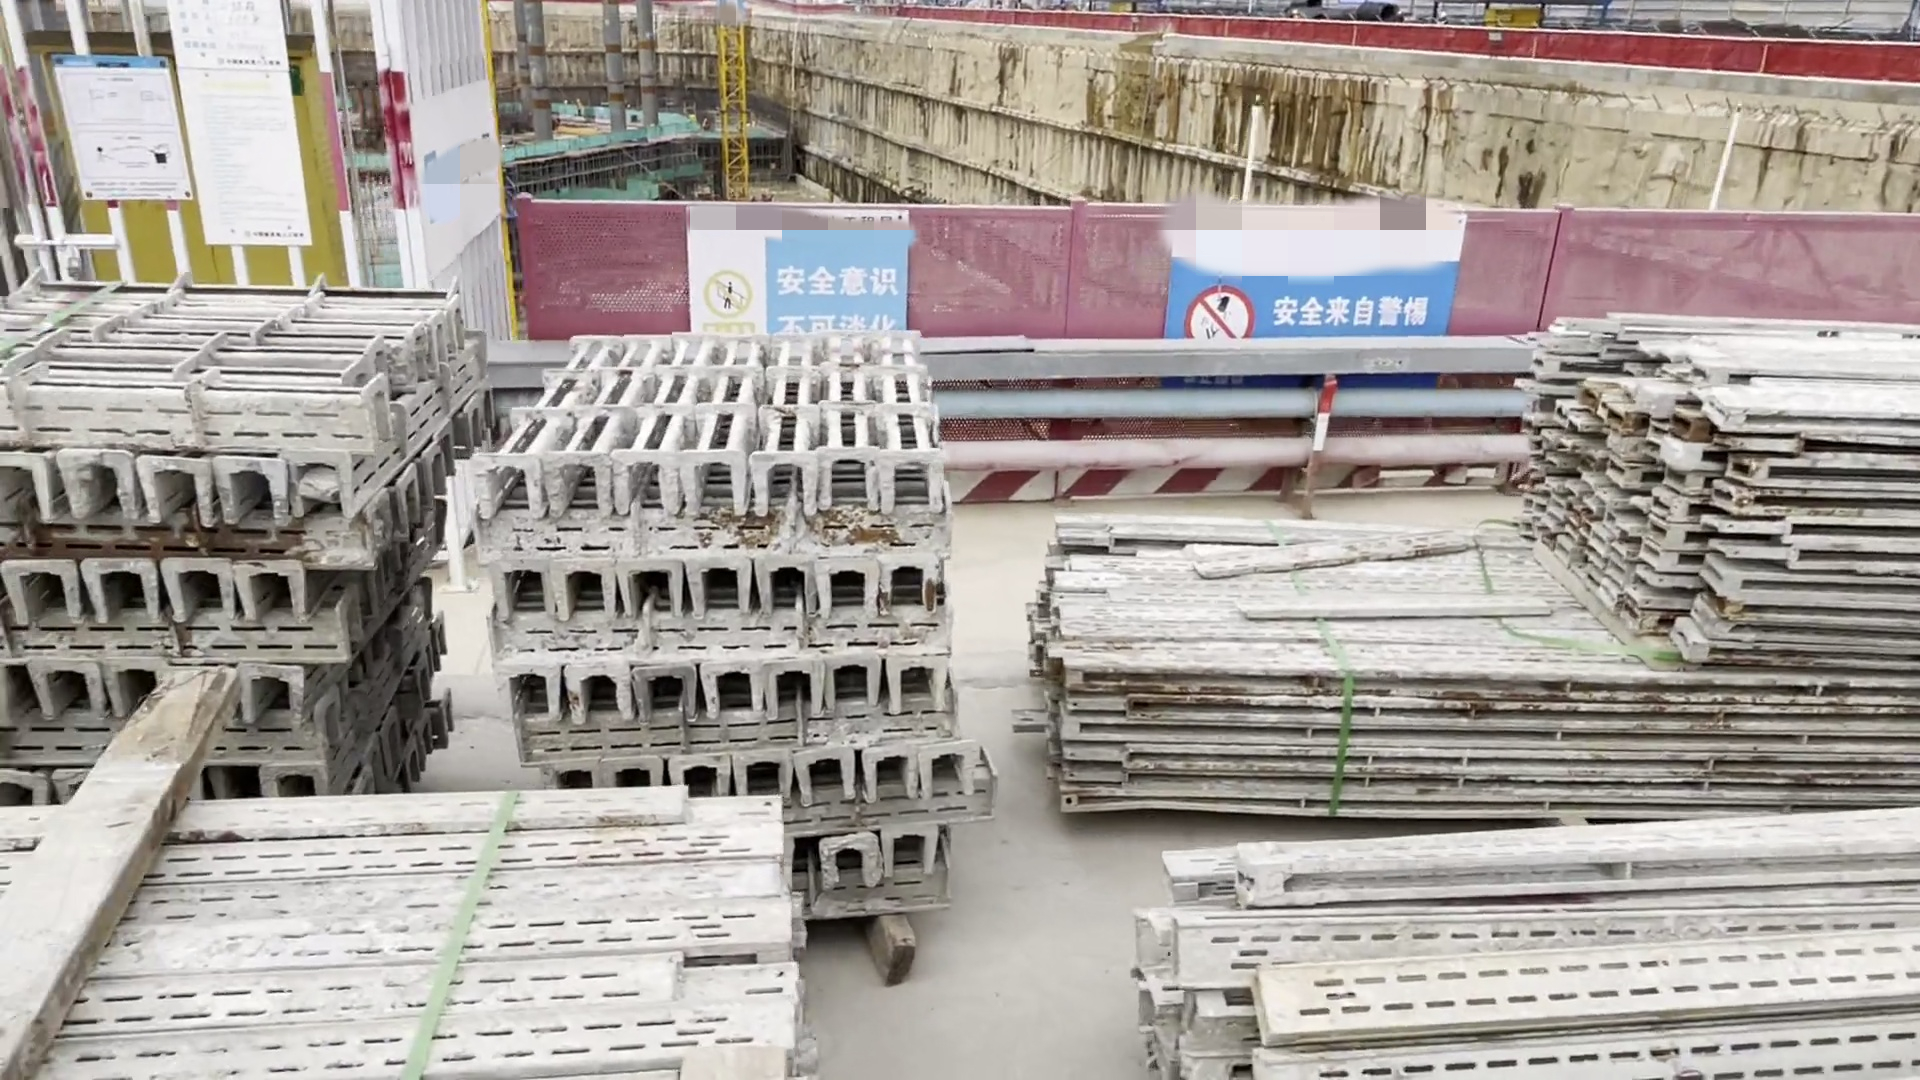ebox: (18, 26, 367, 287)
fence: (517, 204, 1920, 496)
slogan: (1163, 227, 1462, 343), (680, 208, 911, 331)
